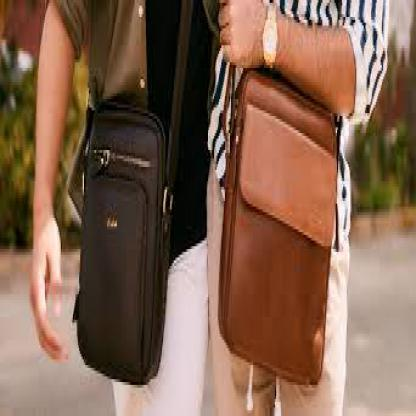morral: (212, 59, 343, 405), (63, 71, 180, 399)
